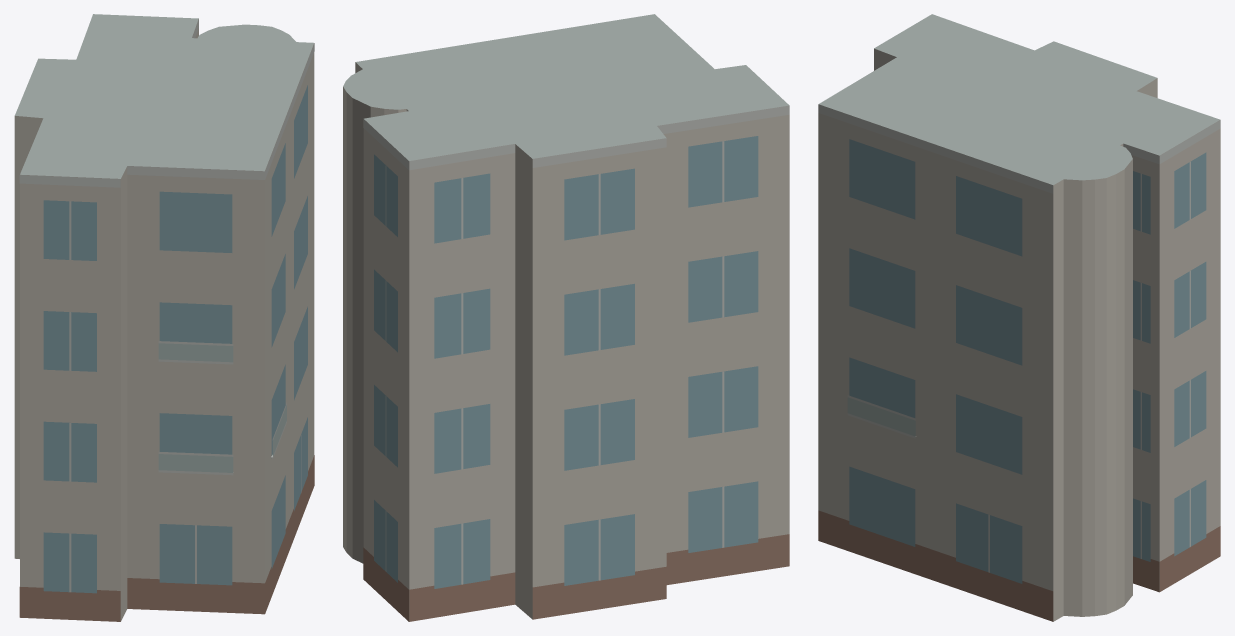
The model's file is survey-upis-32470783.glb.
3 renders of one model, left to right at view 1: azimuth 30°, elevation 25°; view 2: azimuth 150°, elevation 25°; view 3: azimuth 270°, elevation 25°, orthographic. The views are drawn at different scales.
Parts seen in each view (by area): view 1: survey-upis-32470783.tmp; view 2: survey-upis-32470783.tmp; view 3: survey-upis-32470783.tmp.
Part boxes in pixels (bbox=[...]): survey-upis-32470783.tmp: bbox=[14, 14, 314, 621]; survey-upis-32470783.tmp: bbox=[343, 14, 789, 621]; survey-upis-32470783.tmp: bbox=[818, 14, 1220, 621].
Size of the model in its own units: 10.27 by 12.2 by 10.19.
